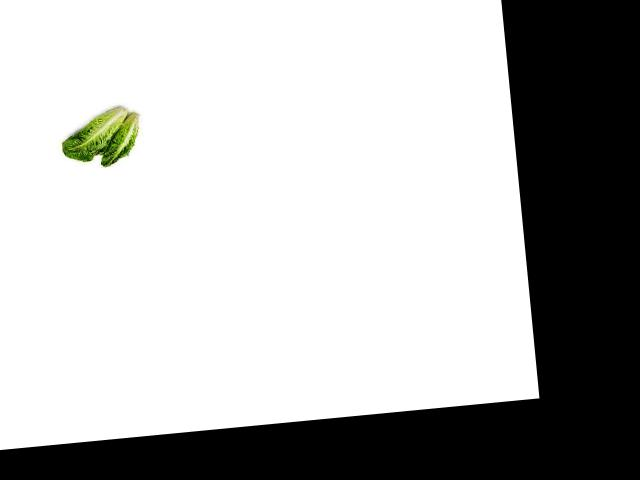lettuce: (58, 102, 127, 166)
